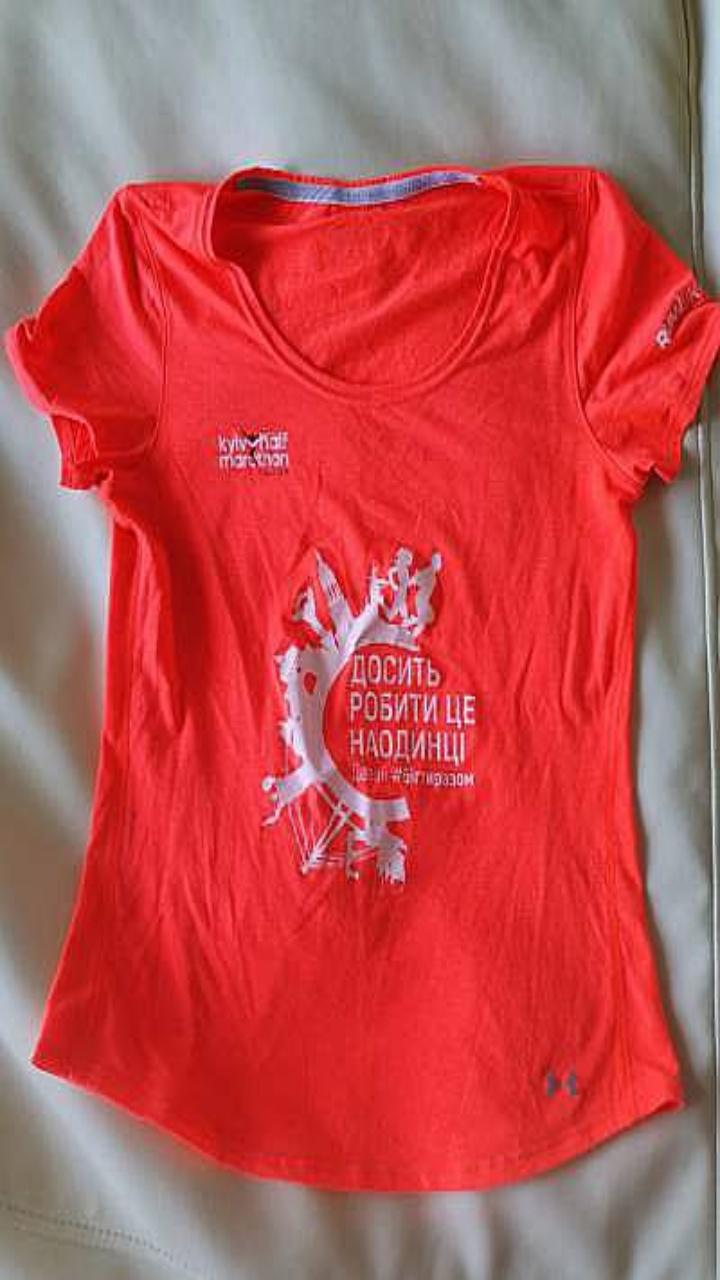T-Shirt: (5, 164, 719, 1190)
